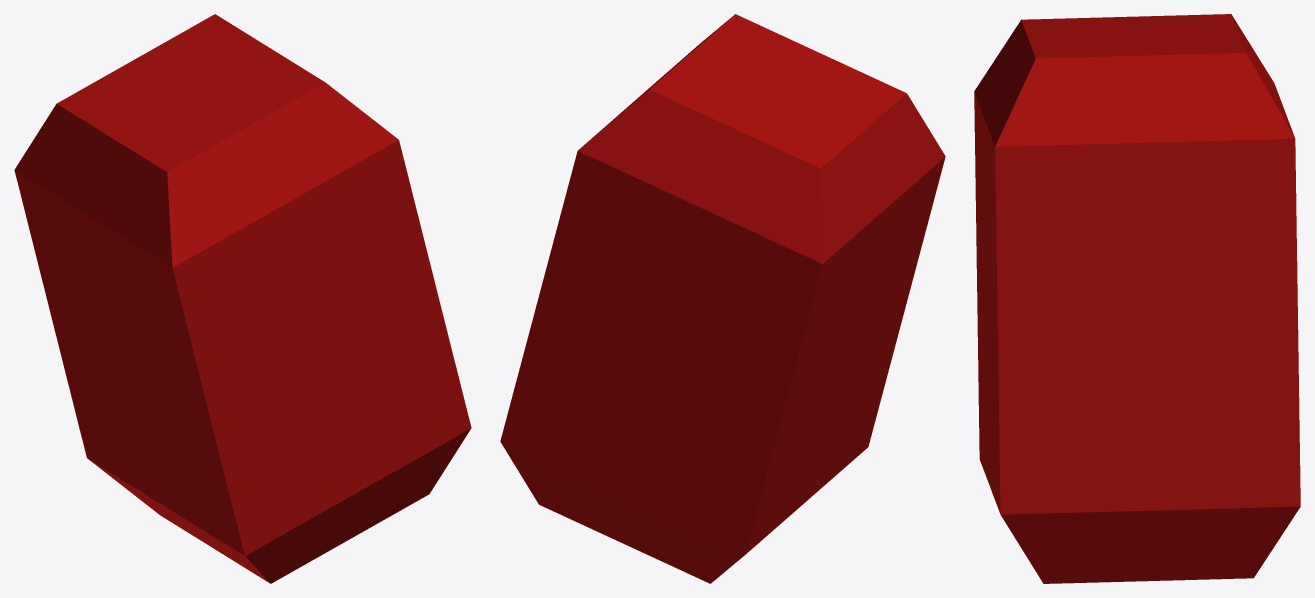
Rendered from town_jewel0009.obj.
3 views of the same model, side by side, from view 1: azimuth 30°, elevation 25°; view 2: azimuth 150°, elevation 25°; view 3: azimuth 270°, elevation 25° (orthographic). The views are drawn at different scales.
Parts seen in each view (by area): view 1: RedJewel; view 2: RedJewel; view 3: RedJewel.
Part boxes in pixels (bbox=[...]): RedJewel: bbox=[14, 14, 471, 583]; RedJewel: bbox=[500, 14, 945, 583]; RedJewel: bbox=[974, 14, 1300, 583].
Bounding box in the file's own units: 0.8603 × 1.21 × 0.6943.
